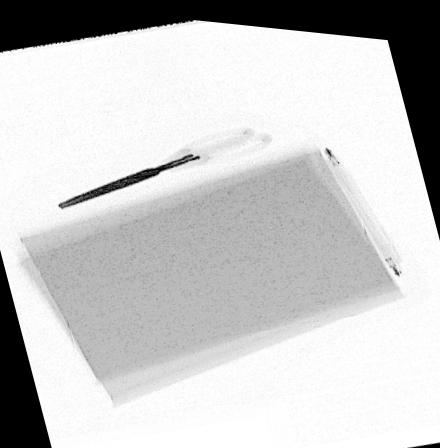Scissors: (55, 119, 274, 209)
